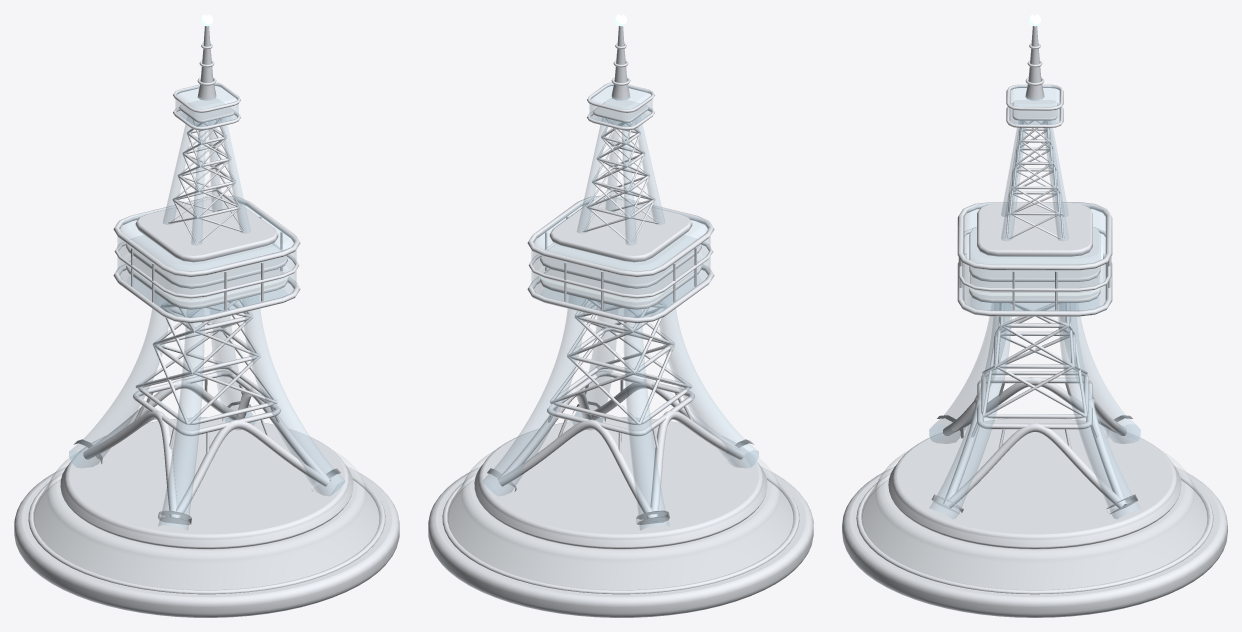
3 renders of one model, left to right at view 1: azimuth 30°, elevation 25°; view 2: azimuth 150°, elevation 25°; view 3: azimuth 270°, elevation 25°, orthographic.
Visible parts, largest first — view 1: TokyoTower_ChessPiece; view 2: TokyoTower_ChessPiece; view 3: TokyoTower_ChessPiece.
Boxes of the visible parts, <box> form: TokyoTower_ChessPiece: <box>14,14,399,617</box>; TokyoTower_ChessPiece: <box>428,14,813,617</box>; TokyoTower_ChessPiece: <box>842,14,1227,617</box>.
Bounding box in the file's own units: 2 × 3 × 2.
